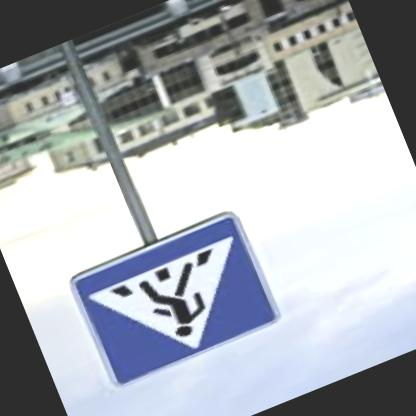crosswalk: (64, 210, 277, 392)
